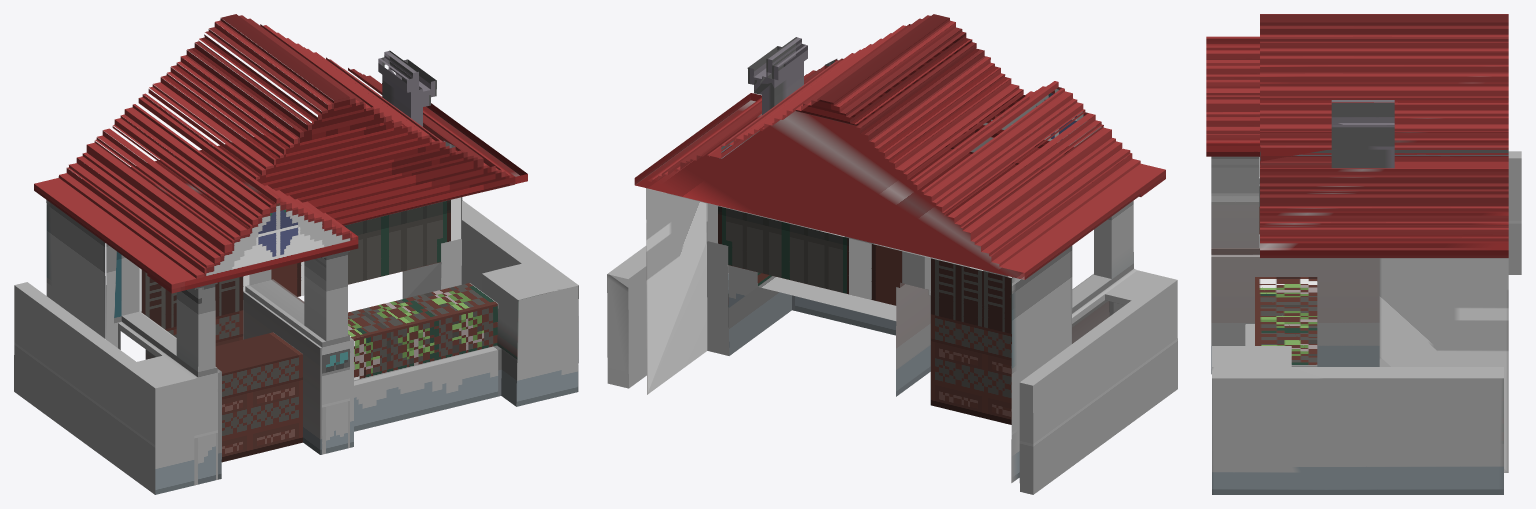
The model's file is PlayerHouse.fbx.
The picture shows the model from 3 angles, left to right: view 1: azimuth 30°, elevation 25°; view 2: azimuth 150°, elevation 25°; view 3: azimuth 270°, elevation 25°; orthographic projection. The views are drawn at different scales.
Parts seen in each view (by area): view 1: Plane; view 2: Plane; view 3: Plane.
Boxes of the visible parts, box(x1,y1,x2,y2) form: Plane: box(14, 14, 578, 494); Plane: box(607, 14, 1177, 494); Plane: box(1206, 14, 1521, 494).
Size of the model in its own units: 3245 by 2412 by 1905.
1 material, 1 textured.
